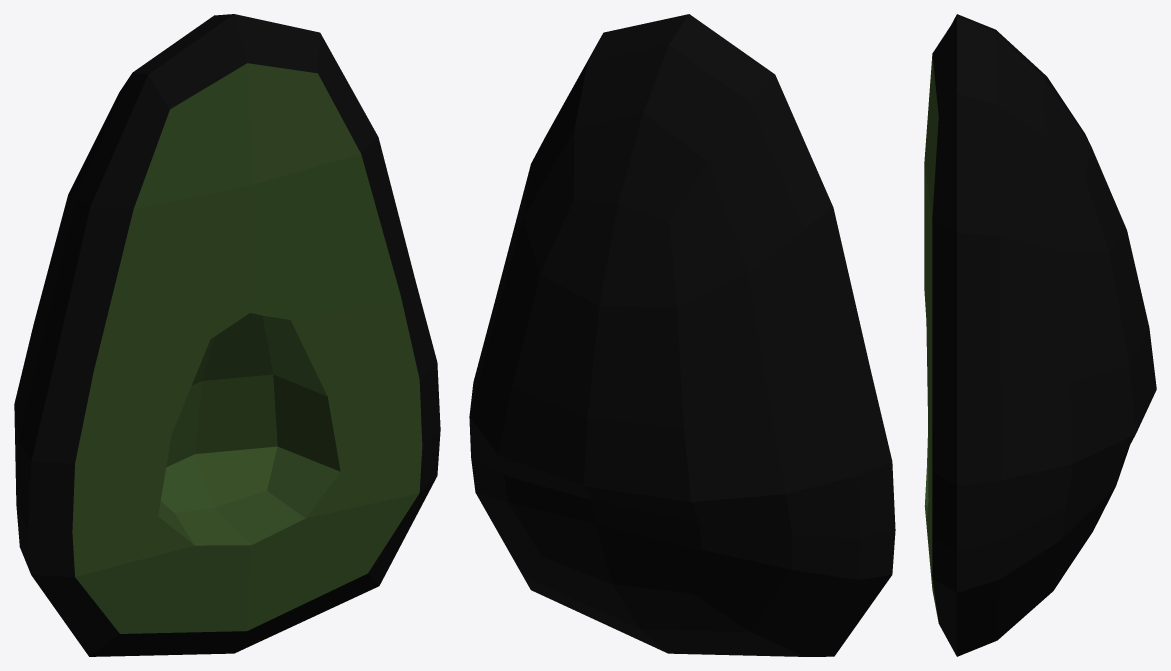
The model's file is Avocado_Empty.obj.
3 views of the same model, side by side, from view 1: azimuth 30°, elevation 25°; view 2: azimuth 150°, elevation 25°; view 3: azimuth 270°, elevation 25° (orthographic). The views are drawn at different scales.
Parts seen in each view (by area): view 1: Avocado_Empty_Cube.083; view 2: Avocado_Empty_Cube.083; view 3: Avocado_Empty_Cube.083.
Part boxes in pixels (x1,y1,x2,y2): Avocado_Empty_Cube.083: [14, 14, 440, 656]; Avocado_Empty_Cube.083: [469, 14, 895, 656]; Avocado_Empty_Cube.083: [924, 14, 1156, 656].
Size of the model in its own units: 0.7384 by 1.09 by 0.3818.
